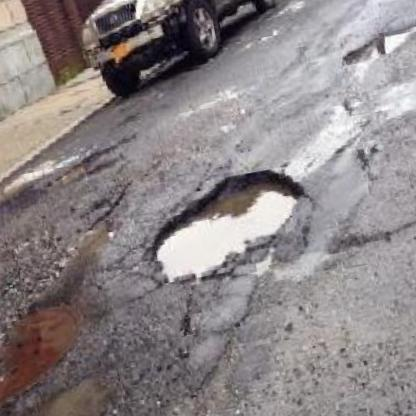pothole: (140, 157, 321, 291), (0, 365, 122, 416), (37, 132, 137, 190), (336, 24, 416, 71)
